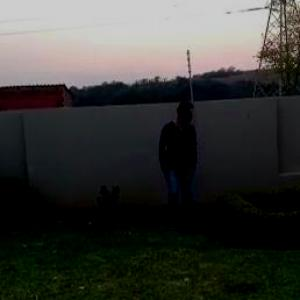follow: (156, 96, 199, 240)
